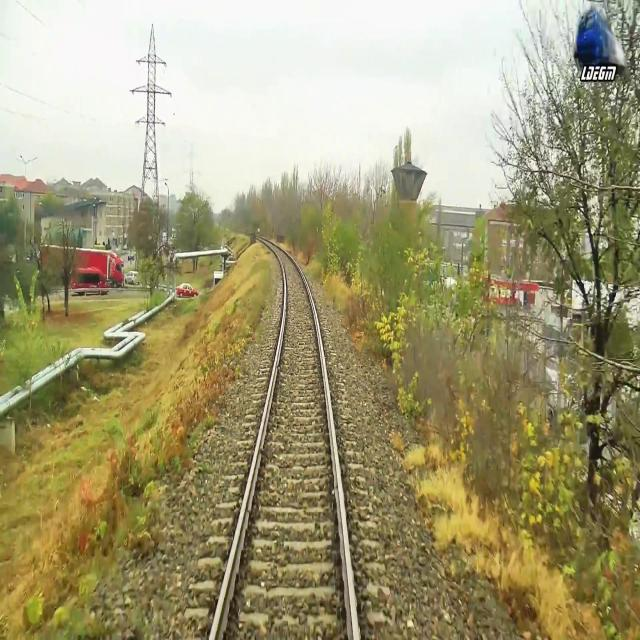rail-track: (213, 236, 354, 639)
